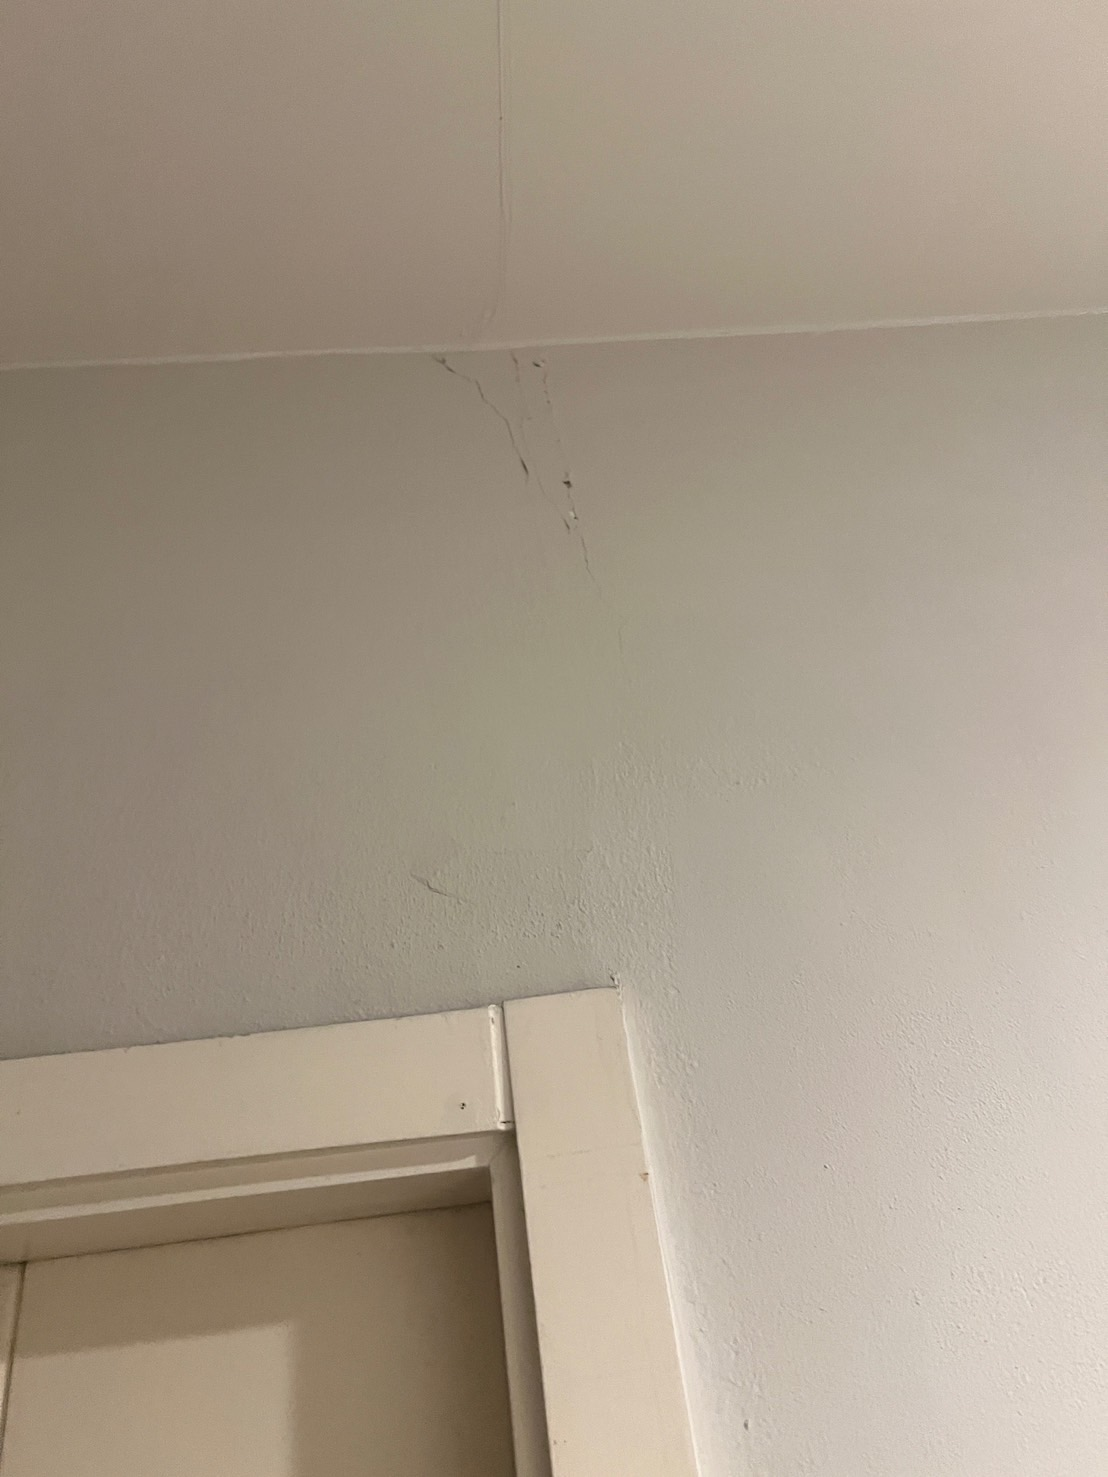Low: (405, 338, 739, 943)
